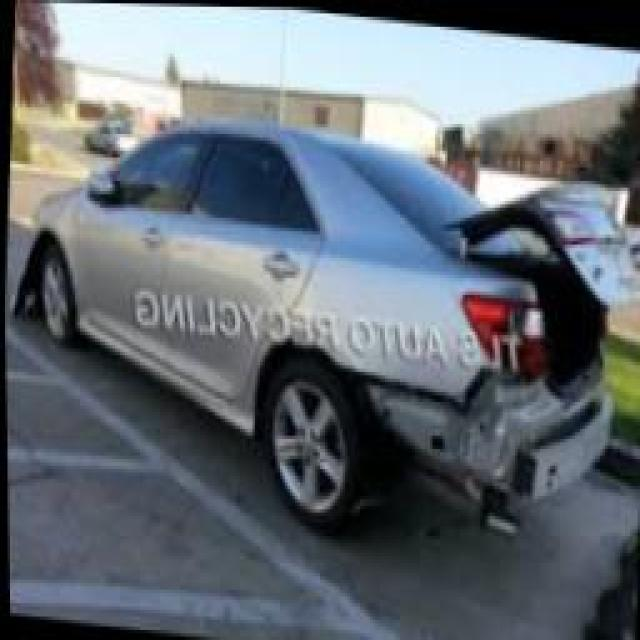Bumper: (347, 370, 612, 530)
